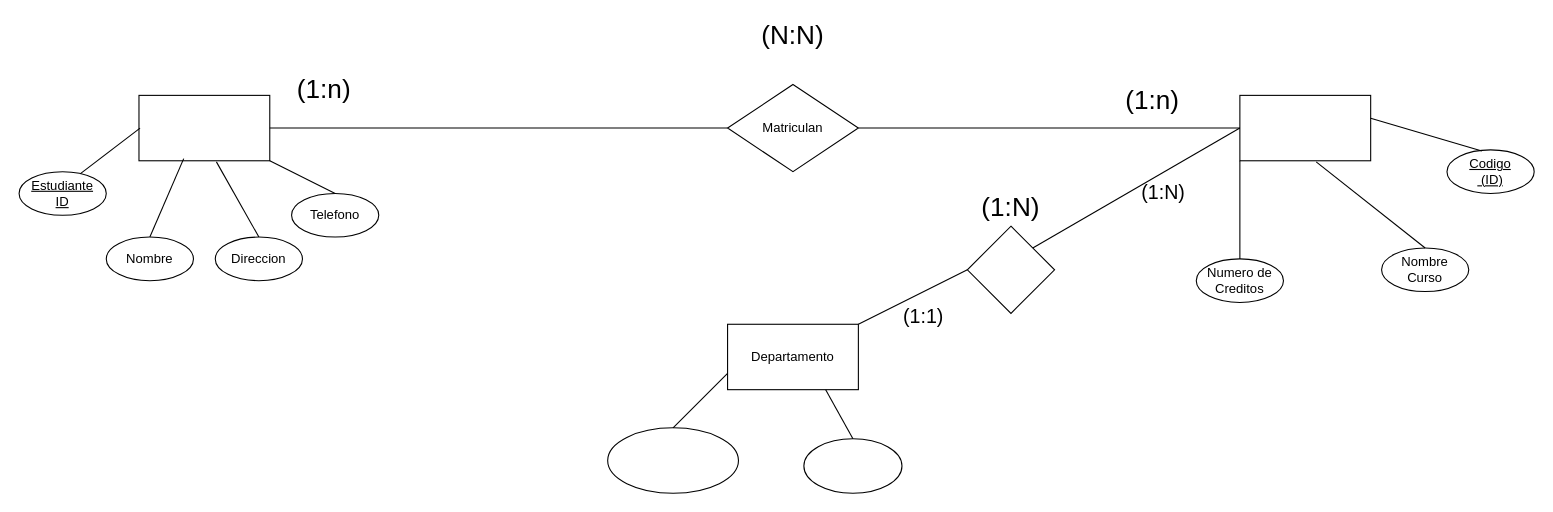
The diagram is 1553 pixels wide and 512 high, and some of its shapes have lost their labels. Here are the shapes that lost their labels. From the top down, the centre of each, then its label:
(x=204, y=127): Estudiante
(x=1305, y=127): Curso
(x=1010, y=269): Ofrece
(x=672, y=460): Departamento ID
(x=852, y=465): Nombre de Departamento
